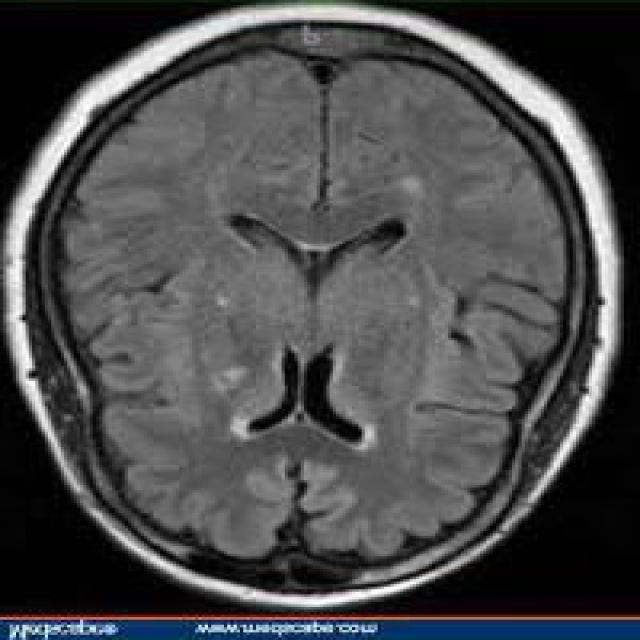no-tumor: (124, 128, 474, 470)
